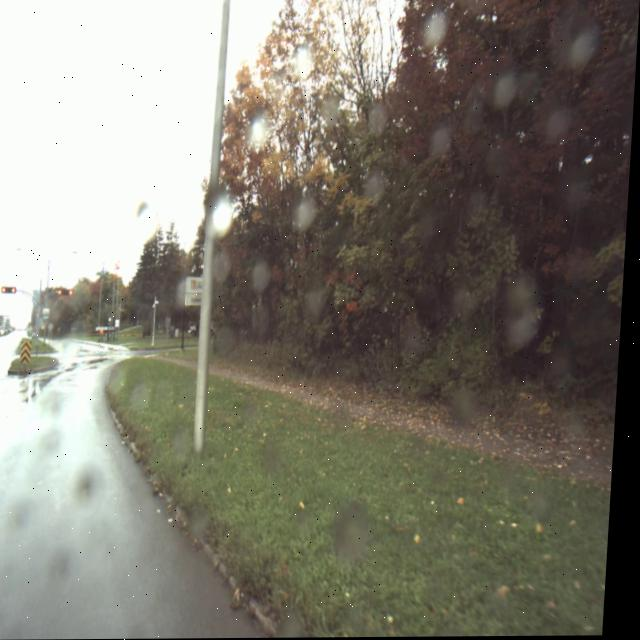trafficLight: (59, 287, 78, 300), (5, 286, 21, 294)
